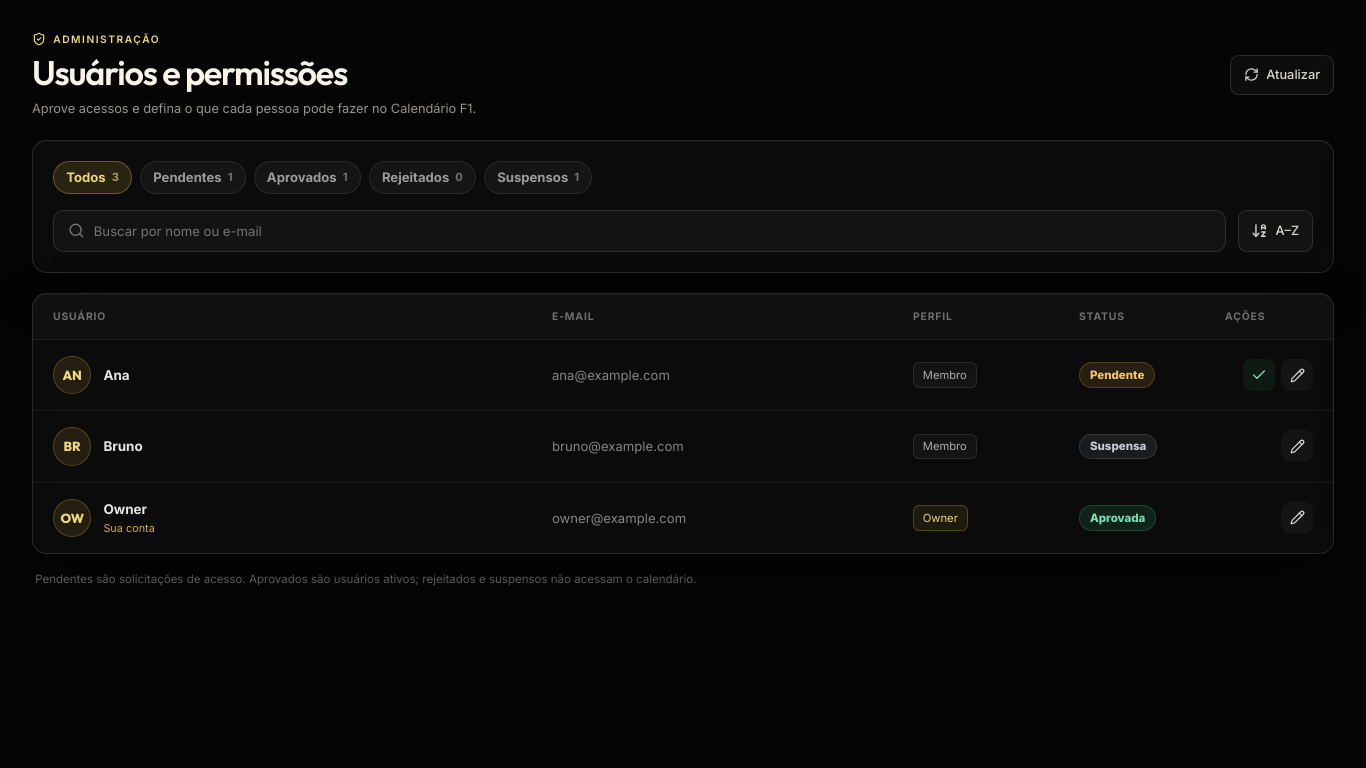
Test: reference-style users panel › protects owner controls and explains the invariant
Click the button named "Editar Owner" at (1297, 518), box [1281,502,1313,534]
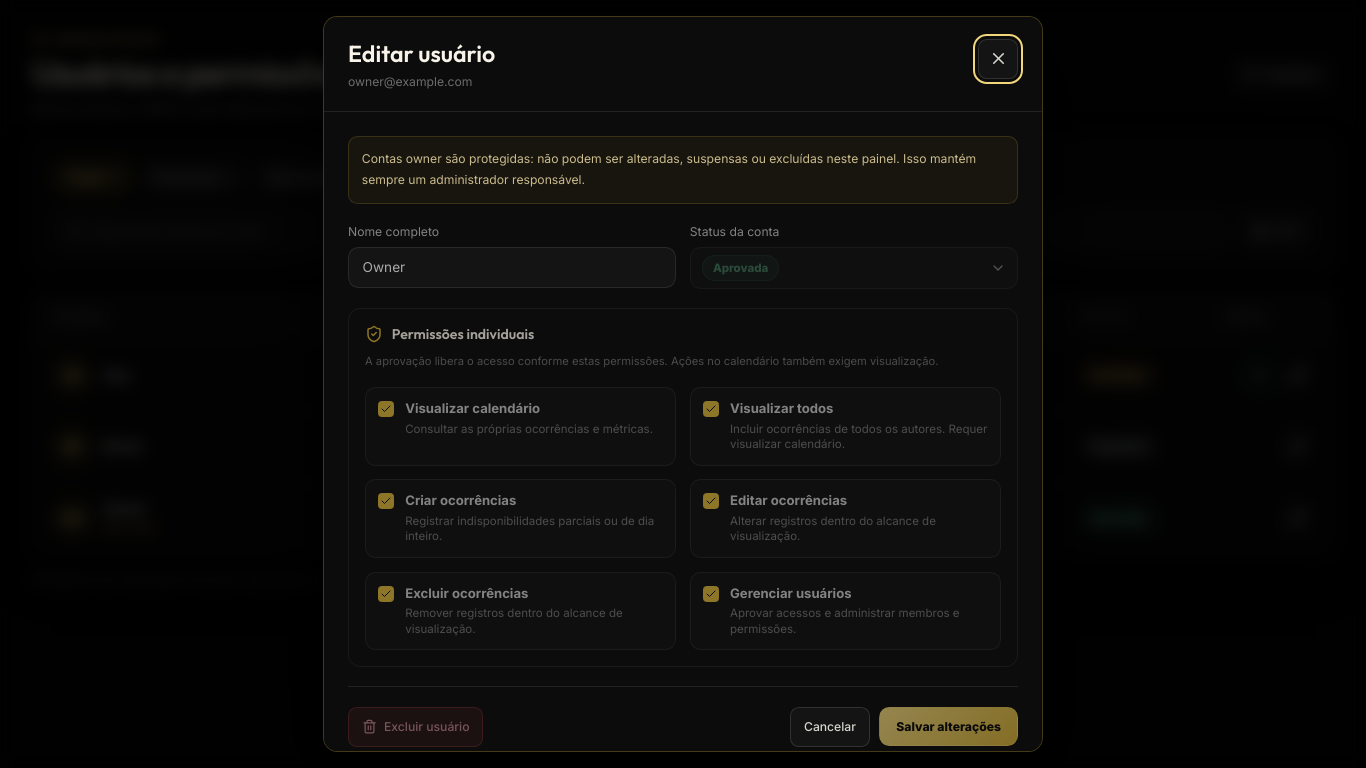
Expected: the text "Contas owner são protegidas" is shown, [362,151,976,187]
Expected: the button "Salvar alterações" is disabled, [879,707,1018,746]
Expected: the button "Excluir usuário" is disabled, [348,706,483,746]
